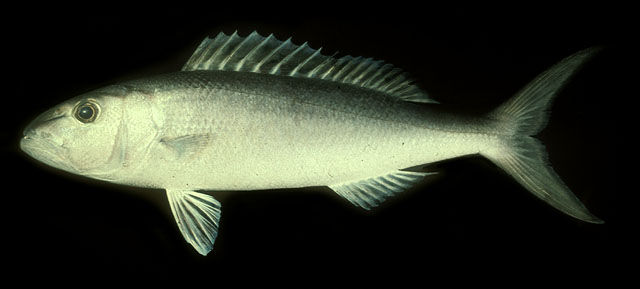fish: (20, 32, 610, 256)
